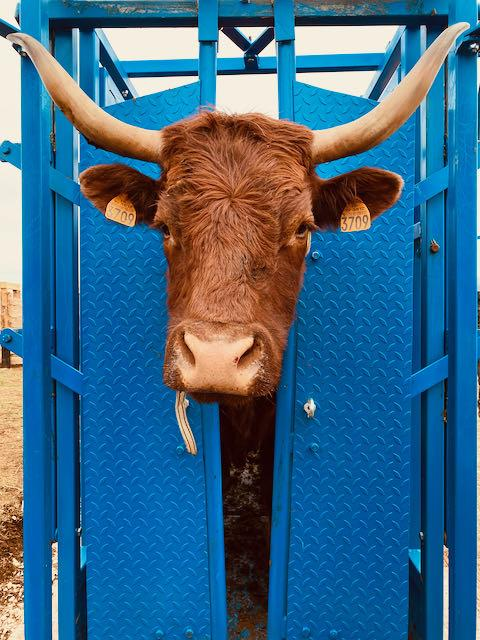muzzles: (153, 320, 293, 403)
